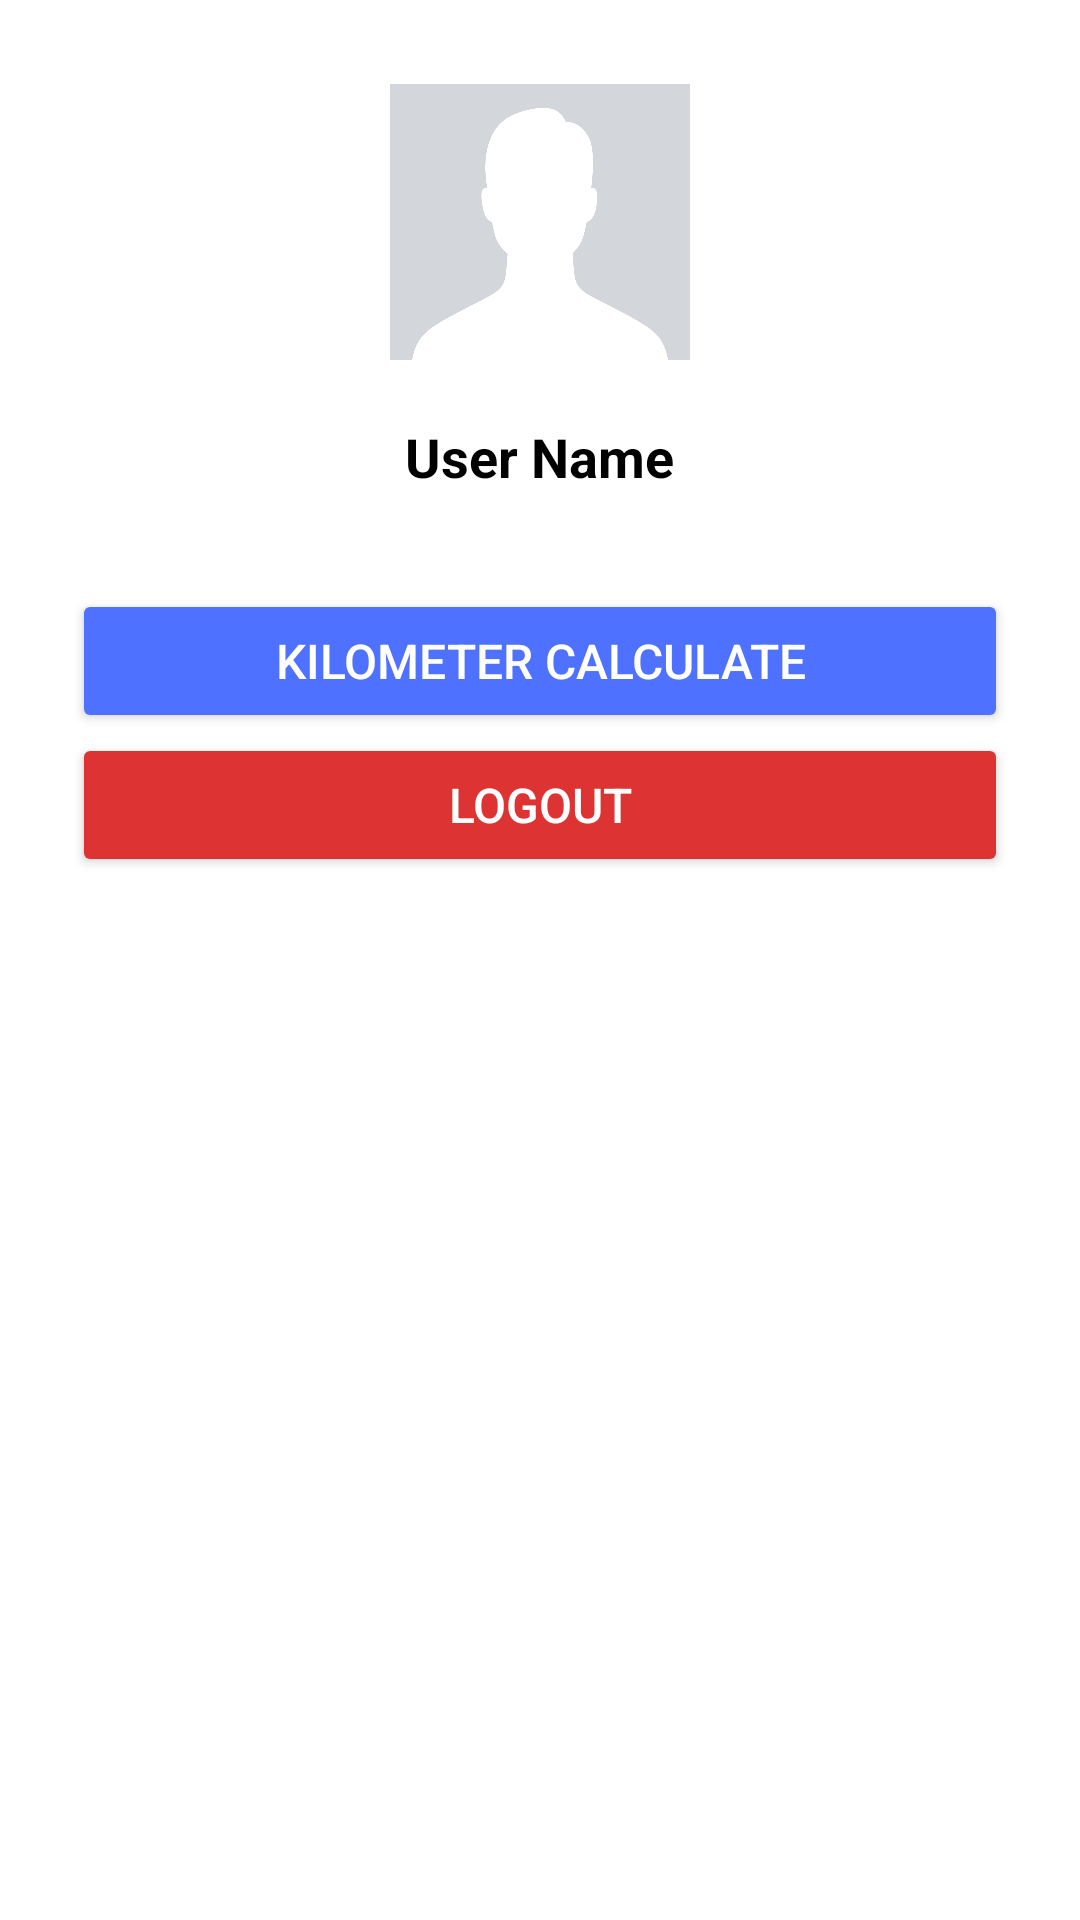

Point at icon controls on the screen. Image size 1080*1920, points as (x,y).
Profile Picture: (540,222)
